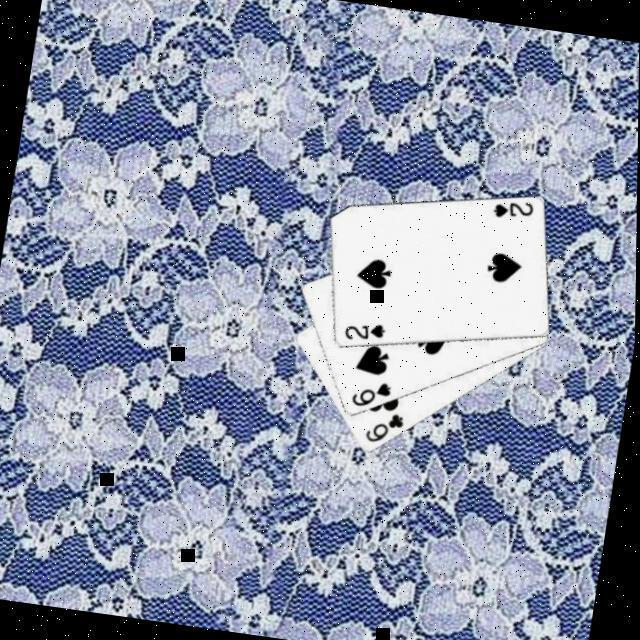2S: (340, 318, 389, 348), (488, 195, 536, 225)
6C: (362, 408, 408, 451)
6S: (347, 376, 395, 415)
